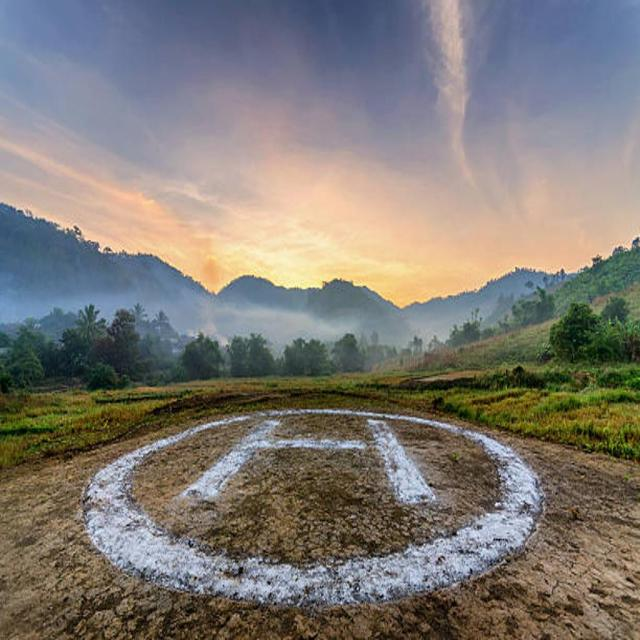helipad: (80, 404, 541, 604)
